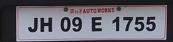0: (59, 15, 71, 33)
1: (110, 15, 121, 33)
5: (134, 15, 146, 33), (146, 15, 157, 32)
7: (122, 16, 134, 32)
9: (71, 16, 84, 33)
E: (90, 15, 103, 33)
H: (40, 16, 54, 34)
J: (26, 16, 41, 33)
